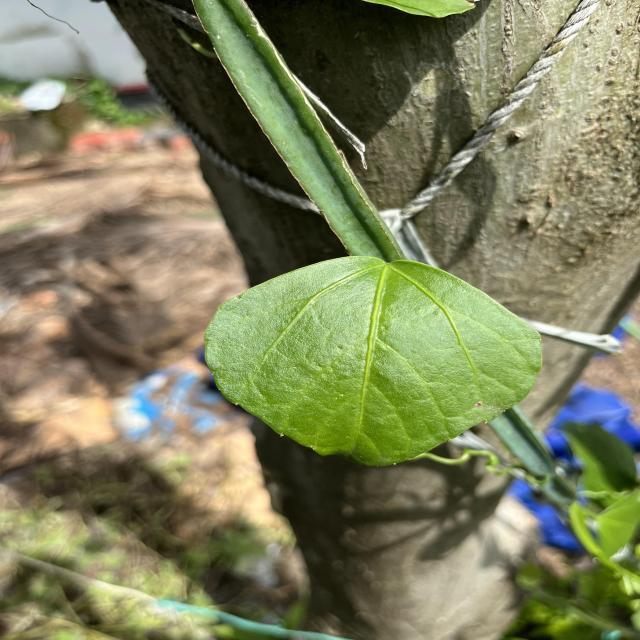Cissus quadrangularis: (198, 252, 547, 472)
